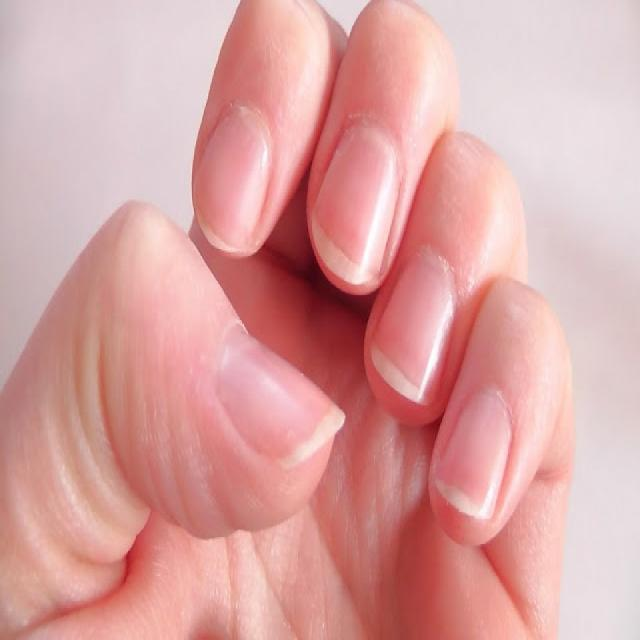sehat: (217, 327, 344, 469), (369, 244, 457, 406), (311, 122, 401, 279), (192, 103, 276, 249), (437, 389, 513, 520)
